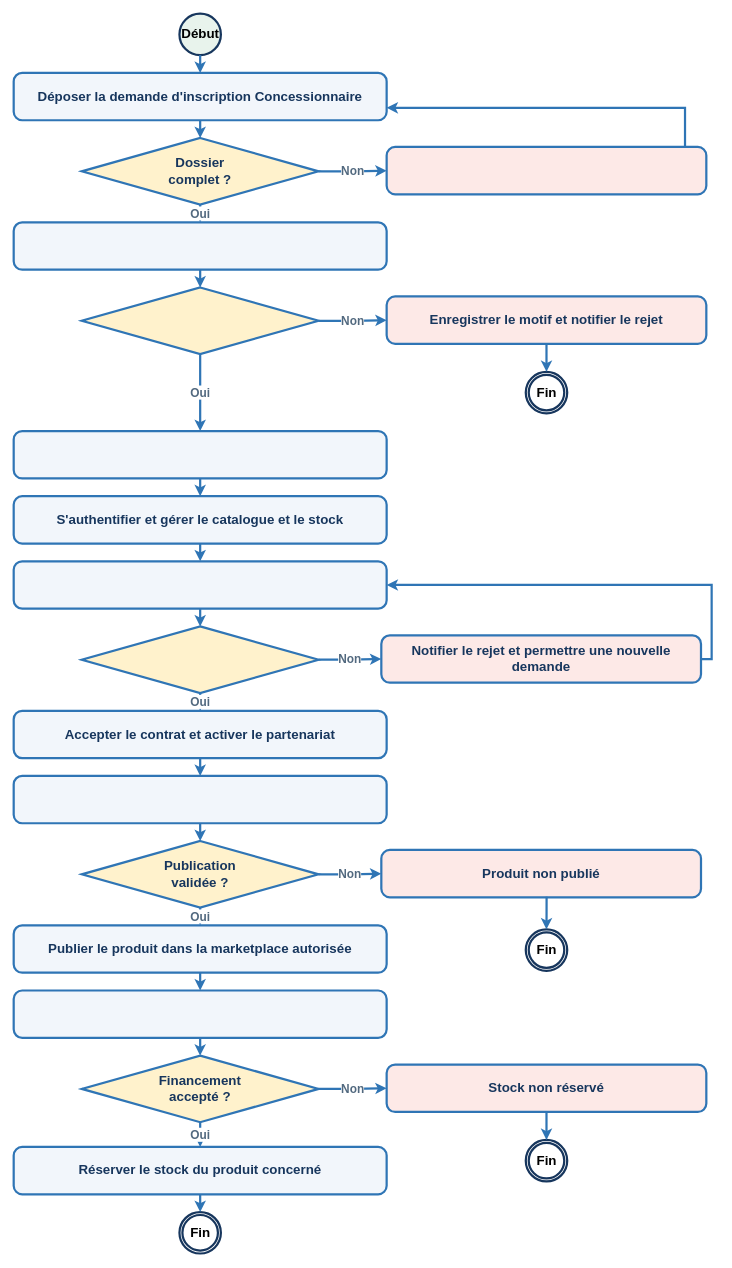
Some shapes in this 732 by 1268 pixel diagram are drawn without their labels. The shapes that lost their labels are listed below. From the top down, each one's box as (x1, y1, x2, y2) in pixels, then its label:
(385, 145, 707, 195): Compléter ou corriger le dossier
(12, 221, 387, 270): L'Administrateur SaaS examine la demande
(80, 286, 319, 355): Demande approuvée ?
(12, 430, 387, 479): Créer le compte et envoyer les identifiants
(12, 560, 387, 609): Soumettre une demande de partenariat à une banque
(80, 625, 319, 694): Partenariat accepté ?
(12, 774, 387, 824): Soumettre un produit à la publication
(12, 989, 387, 1039): Suivre les demandes de financement associées
